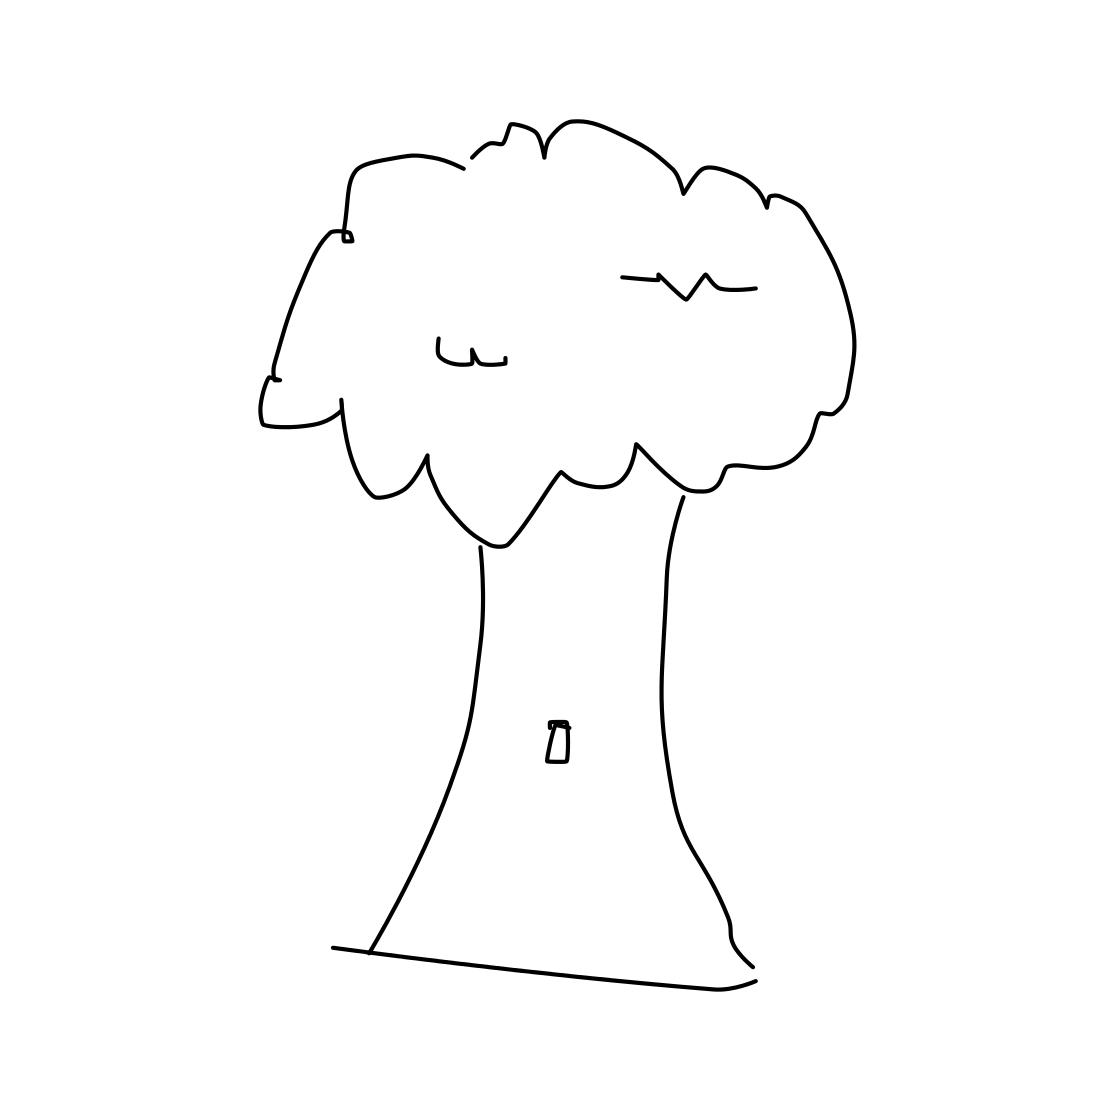Tree: (225, 95, 882, 998)
